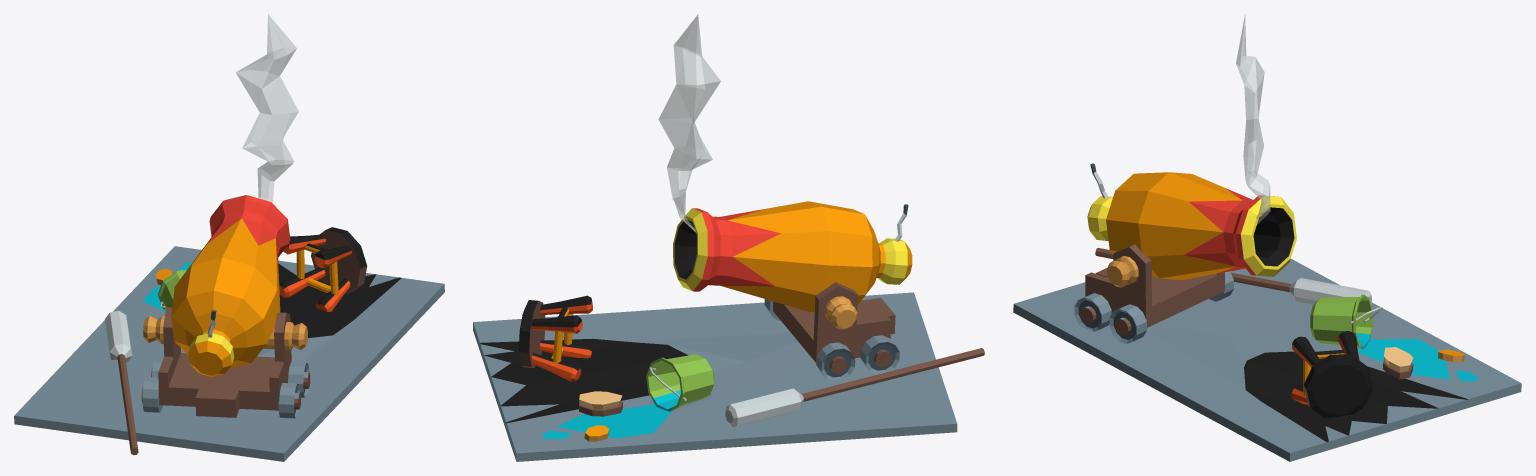
File: the-cannon-cleaner-1wgfkTqDt0T.glb
The picture shows the model from 3 angles, left to right: view 1: azimuth 30°, elevation 25°; view 2: azimuth 150°, elevation 25°; view 3: azimuth 270°, elevation 25°; orthographic projection.
Parts seen in each view (by area): view 1: group1140373586; view 2: group1140373586; view 3: group1140373586.
Part boxes in pixels (x1,y1,x2,y2): group1140373586: (14, 14, 444, 461); group1140373586: (473, 14, 984, 461); group1140373586: (1013, 15, 1521, 461).
Size of the model in its own units: 1.78 by 1.32 by 1.7.
